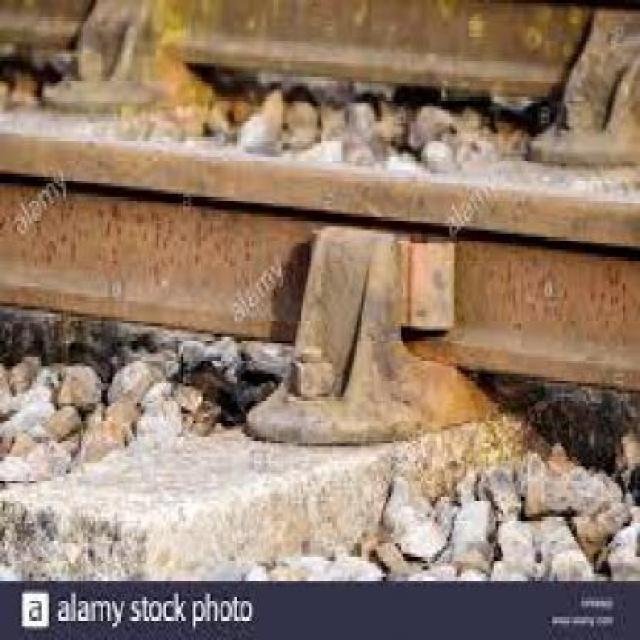non-defective: (21, 69, 640, 470)
